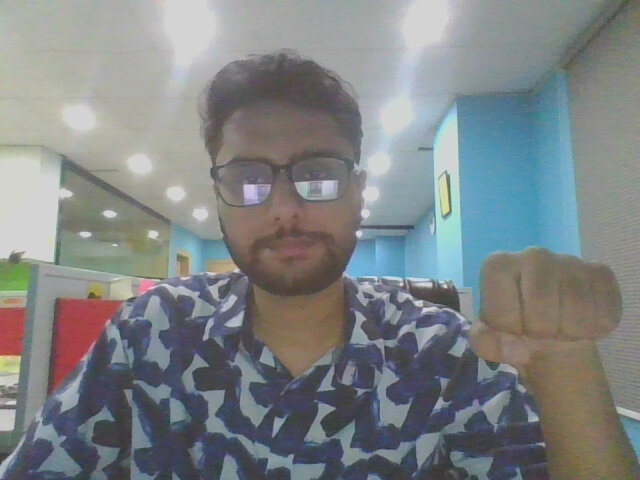yes: (457, 232, 640, 398)
